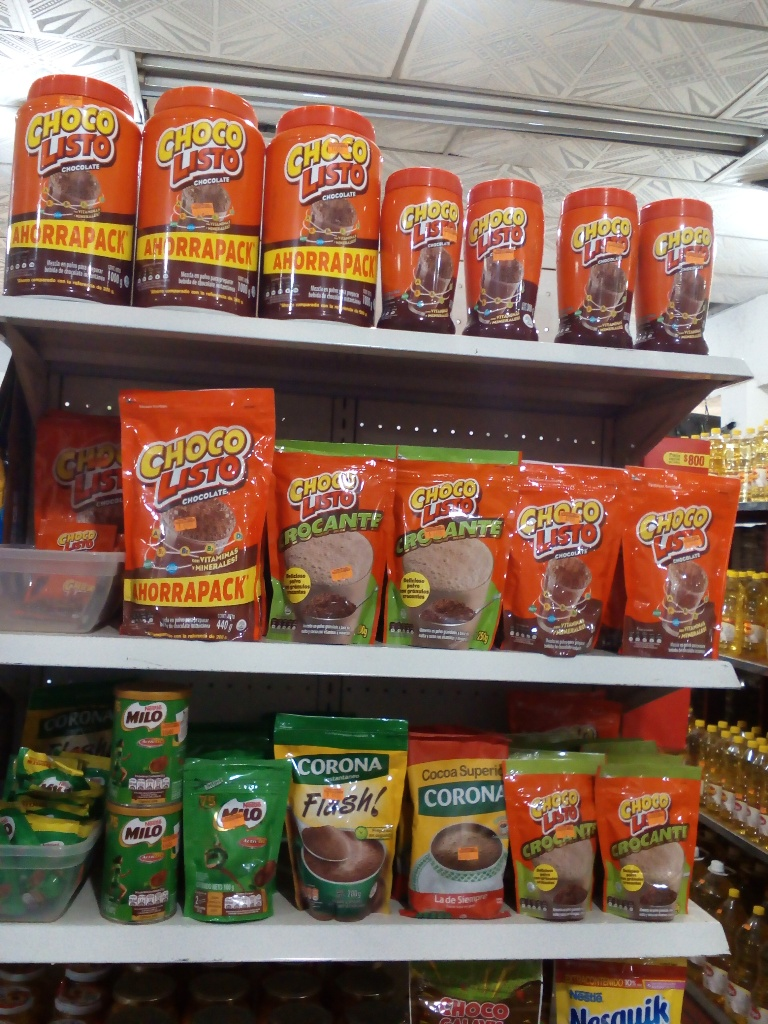COL0170102DYP10000: (510, 764, 598, 921)
COL0170102DYP25000: (270, 446, 391, 646)
COL0170103DYP20000: (502, 449, 619, 656)
COL0170103DYP44000: (117, 392, 280, 643)
COL0170103TRR00100: (8, 78, 145, 308)
COL0170103TRR30000: (383, 165, 455, 322)
COL0170203DYP10000: (178, 744, 277, 927)
COL0170203LAT20000: (106, 680, 190, 810)
